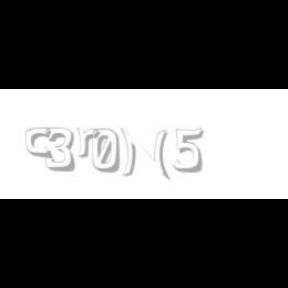0: (92, 128, 122, 174)
3: (46, 128, 76, 172)
5: (172, 128, 204, 174)
N: (120, 128, 168, 180)
c: (26, 128, 54, 160)
r: (76, 128, 104, 158)
